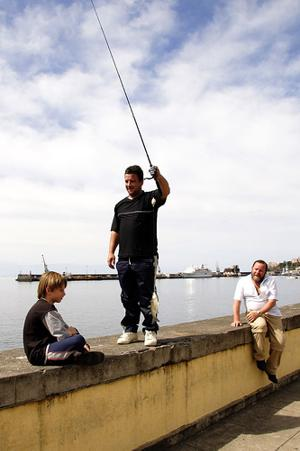person: (108, 166, 171, 348)
